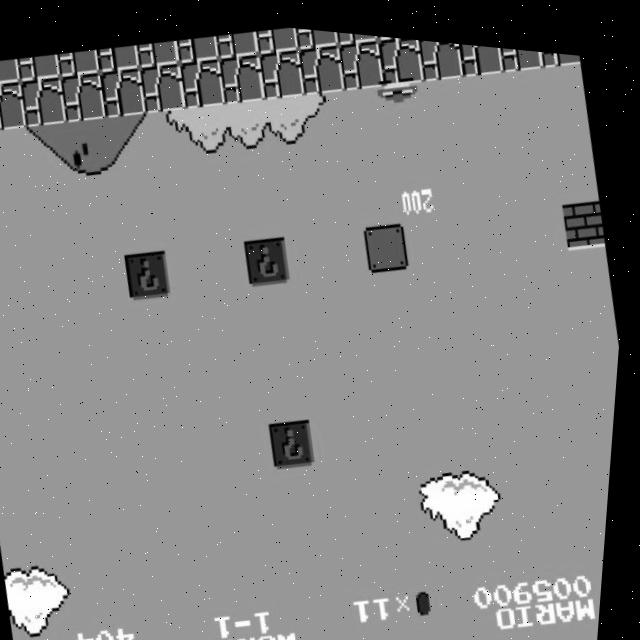1- brick_block: (562, 185, 611, 241)
11- little_mario: (395, 123, 450, 184)
13- mystery_block: (125, 243, 178, 301), (244, 227, 297, 284), (272, 409, 324, 466)
17- undestructible_block: (295, 34, 348, 92), (216, 45, 269, 103), (176, 50, 229, 108), (137, 56, 190, 114), (97, 61, 150, 119), (58, 66, 111, 124), (18, 71, 71, 129), (335, 29, 388, 86), (256, 40, 309, 97), (374, 29, 427, 81), (414, 32, 466, 75), (453, 34, 505, 70), (0, 78, 31, 135), (135, 33, 182, 68), (214, 23, 261, 57), (174, 28, 221, 62), (95, 39, 142, 73), (55, 44, 102, 78), (16, 50, 63, 84), (253, 19, 300, 52), (493, 37, 544, 65), (293, 22, 339, 46), (534, 41, 581, 59), (0, 56, 23, 89), (332, 25, 378, 41)
3- empty_block: (362, 210, 415, 268)
